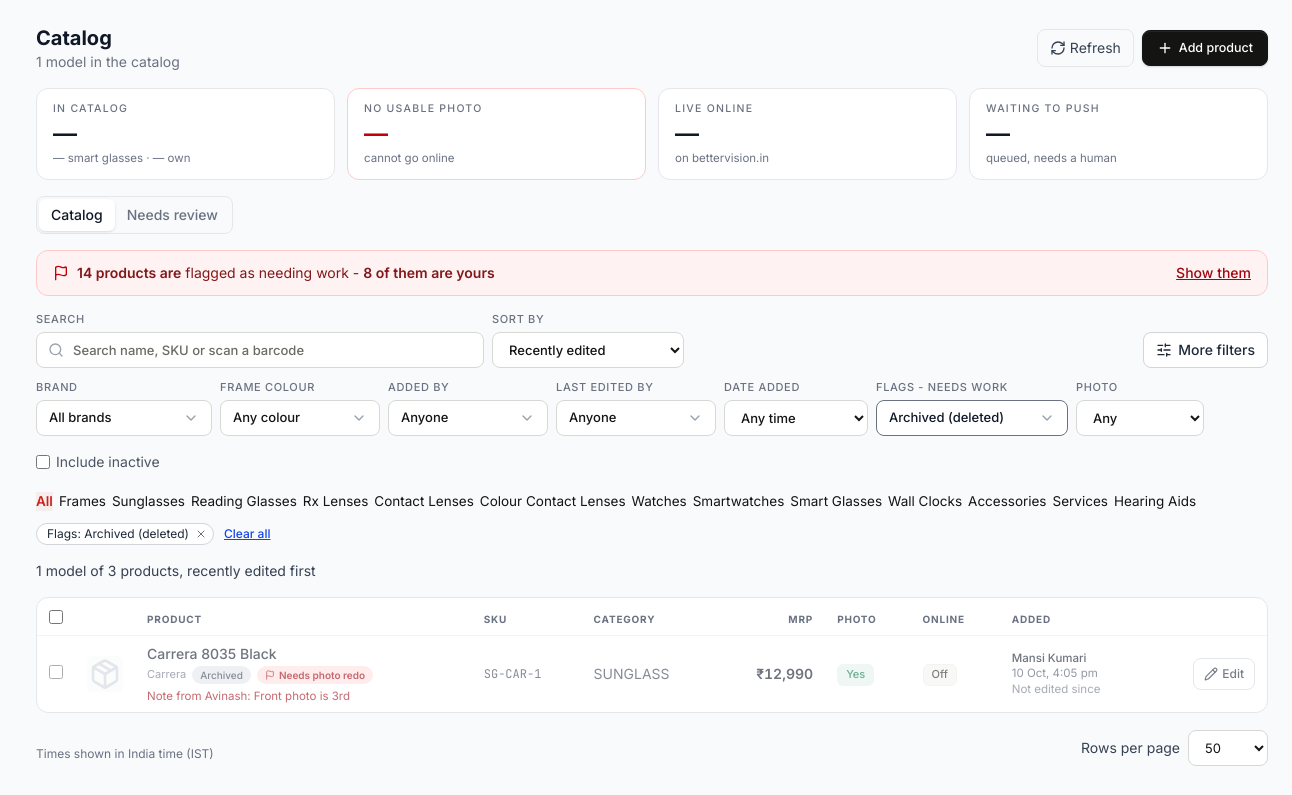
Test: who sees which bulk button › Delete permanently on an archived row and the bar: ["ADMIN"] sees 0
Check: the table with test id "catalog-table" is shown, box [37,598,1267,712]
Click the checkbox named "Select Carrera 8035 Black": (56, 673) [49,666,63,680]
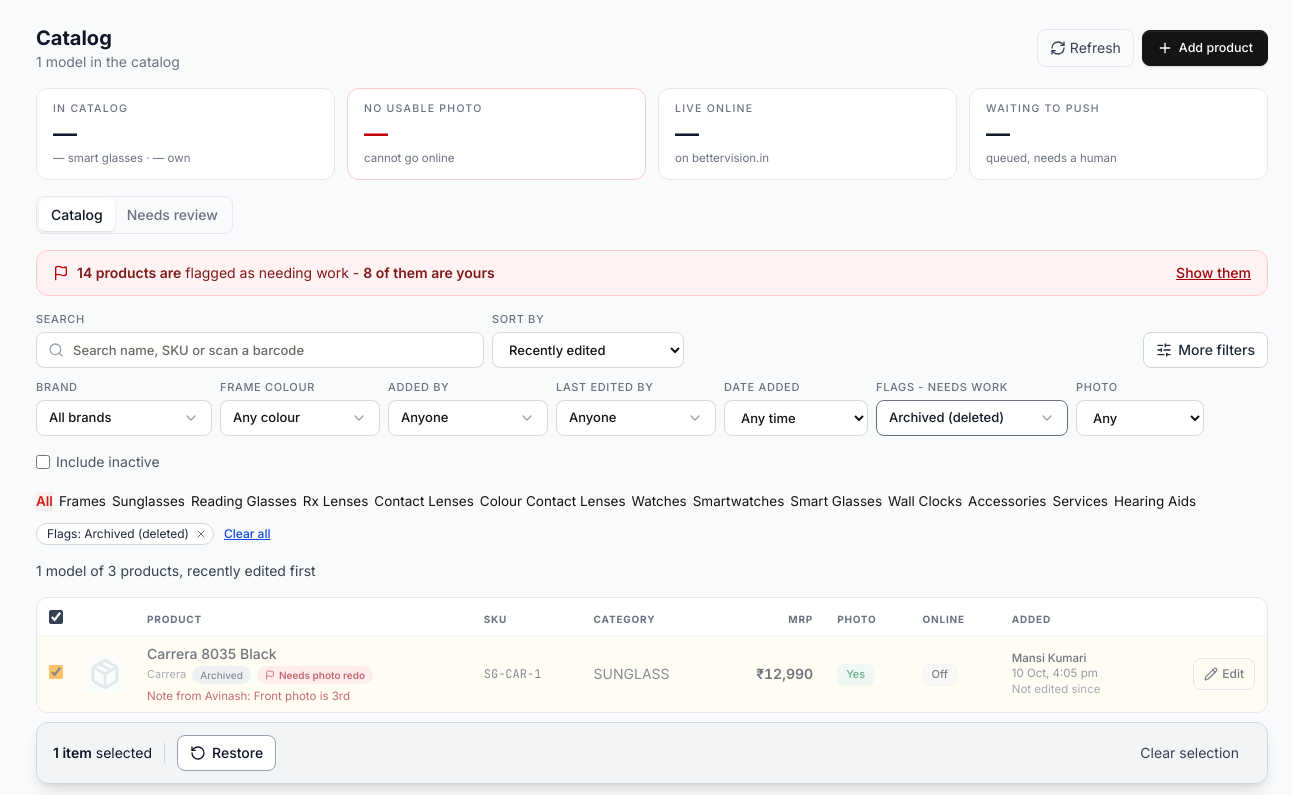
Check: the button "Edit" is shown, box [1193,659,1255,691]
Check: the button "Restore" is shown, box [177,735,276,771]
